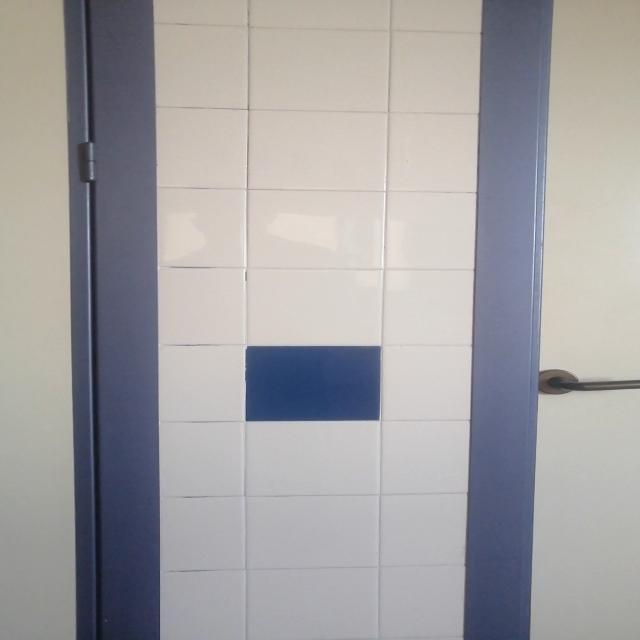door_handle: (547, 375, 640, 395)
